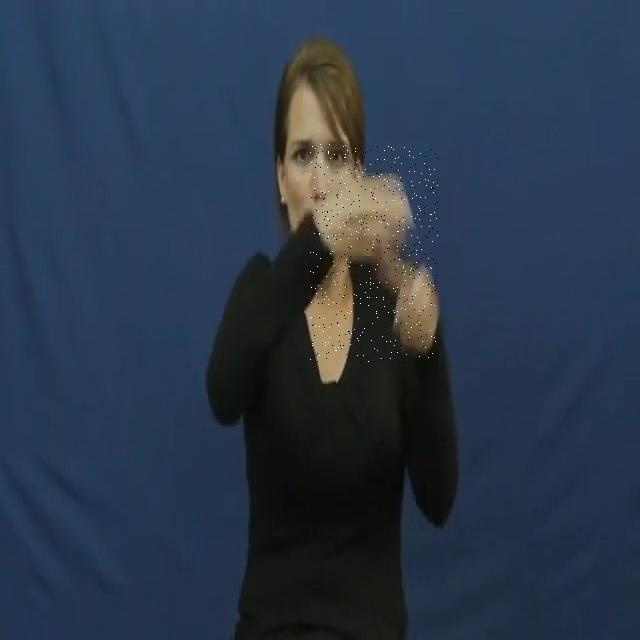lactose: (310, 144, 438, 363)
